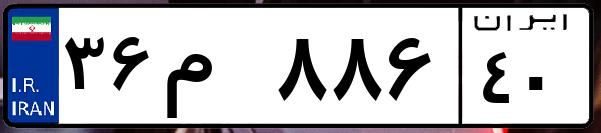0: (525, 38, 570, 115)
3: (57, 26, 110, 100)
4: (475, 38, 525, 113)
6: (385, 28, 445, 110), (110, 28, 158, 98)
8: (270, 28, 330, 110), (330, 28, 385, 110)
م: (158, 20, 270, 120)
